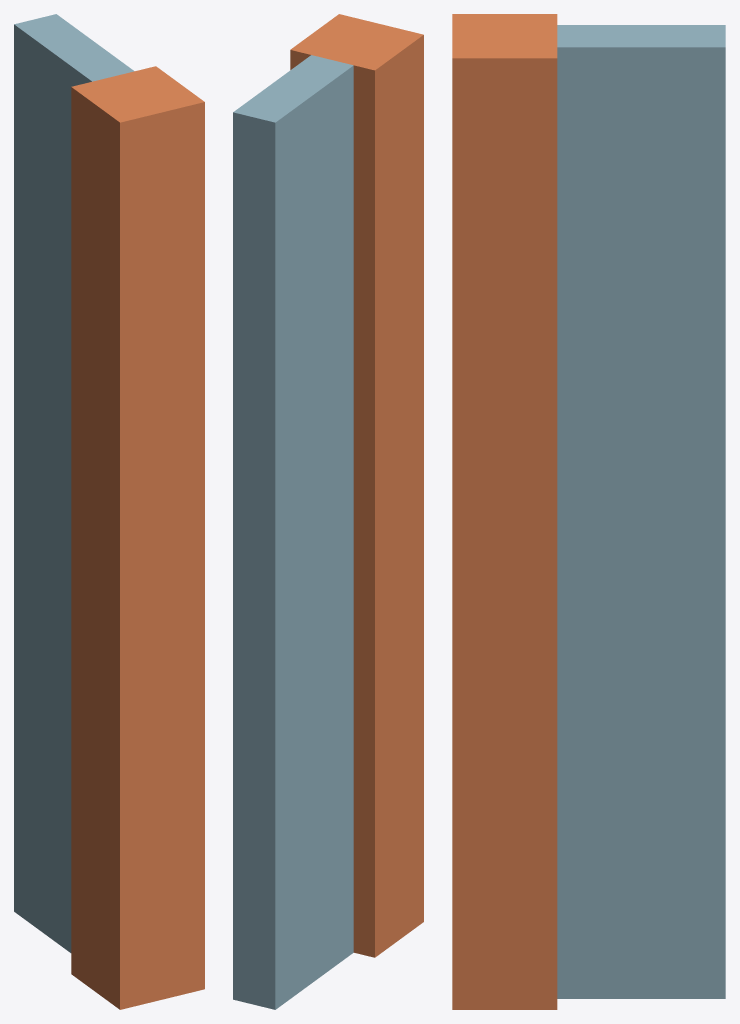
File: wallSide.obj
The picture shows the model from 3 angles, left to right: view 1: azimuth 30°, elevation 25°; view 2: azimuth 150°, elevation 25°; view 3: azimuth 270°, elevation 25°; orthographic projection. The views are drawn at different scales.
Parts seen in each view (by area): view 1: wallSide; view 2: wallSide; view 3: wallSide.
Part boxes in pixels (<box>): wallSide: <box>14,14,204,1009</box>; wallSide: <box>233,14,423,1009</box>; wallSide: <box>452,14,725,1009</box>.
Size of the model in its own units: 0.1 by 1 by 0.26.
